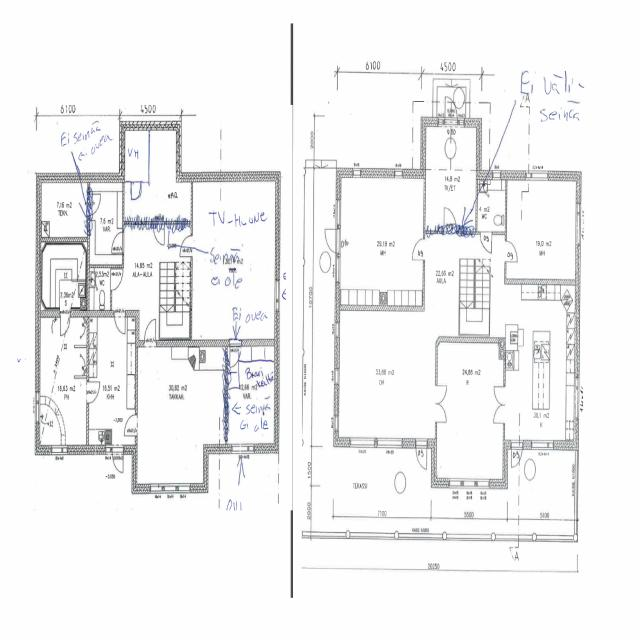door: (322, 229, 339, 252), (233, 445, 245, 477), (445, 95, 457, 126), (511, 440, 523, 470), (144, 318, 156, 346), (112, 446, 123, 476), (114, 310, 125, 337), (416, 439, 426, 468), (86, 383, 100, 403), (110, 269, 123, 290), (180, 235, 192, 257), (481, 232, 492, 255), (112, 232, 124, 253), (413, 239, 425, 260), (60, 310, 70, 335), (125, 415, 137, 435), (505, 241, 517, 261), (434, 385, 446, 404), (434, 404, 446, 422), (131, 179, 140, 201), (494, 386, 504, 404), (494, 404, 504, 422)
